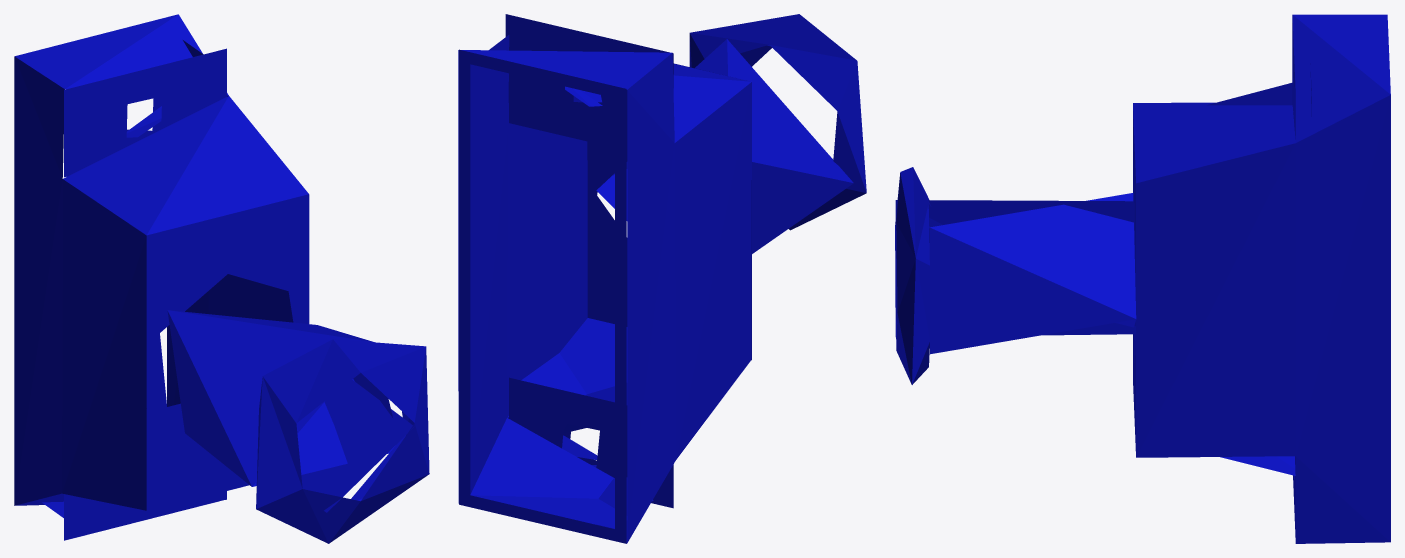
The model's file is rear_left_steer_084.dae.
3 views of the same model, side by side, from view 1: azimuth 30°, elevation 25°; view 2: azimuth 150°, elevation 25°; view 3: azimuth 270°, elevation 25° (orthographic).
Visible parts, largest first — view 1: node; view 2: node; view 3: node.
Part boxes in pixels (x1=…): node: x1=14, y1=14, x2=429, y2=543; node: x1=458, y1=14, x2=866, y2=543; node: x1=895, y1=14, x2=1390, y2=543.
Bounding box in the file's own units: 0.00955 × 0.0232 × 0.0233.
